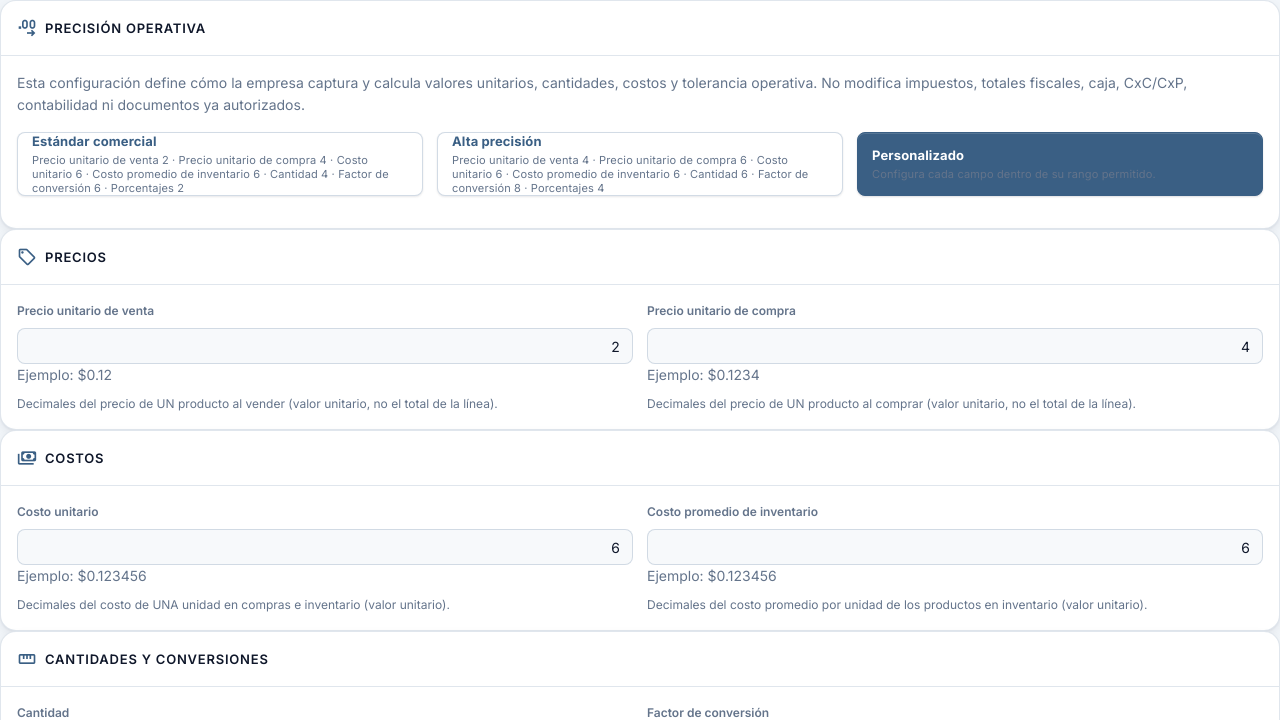
Test: ejemplos dinámicos según N decimales › reflejan el valor actual y se actualizan al editar
Expected: the element with test id "precision-section-prices" is shown, [0,229,1279,430]
Expected: the text with test id "precision-example-salesUnitPriceDecimals" shows "$0.12", [17,366,112,383]
Replace the text in the 1st field with "6". click: (325, 346)
box: [17,328,633,364]
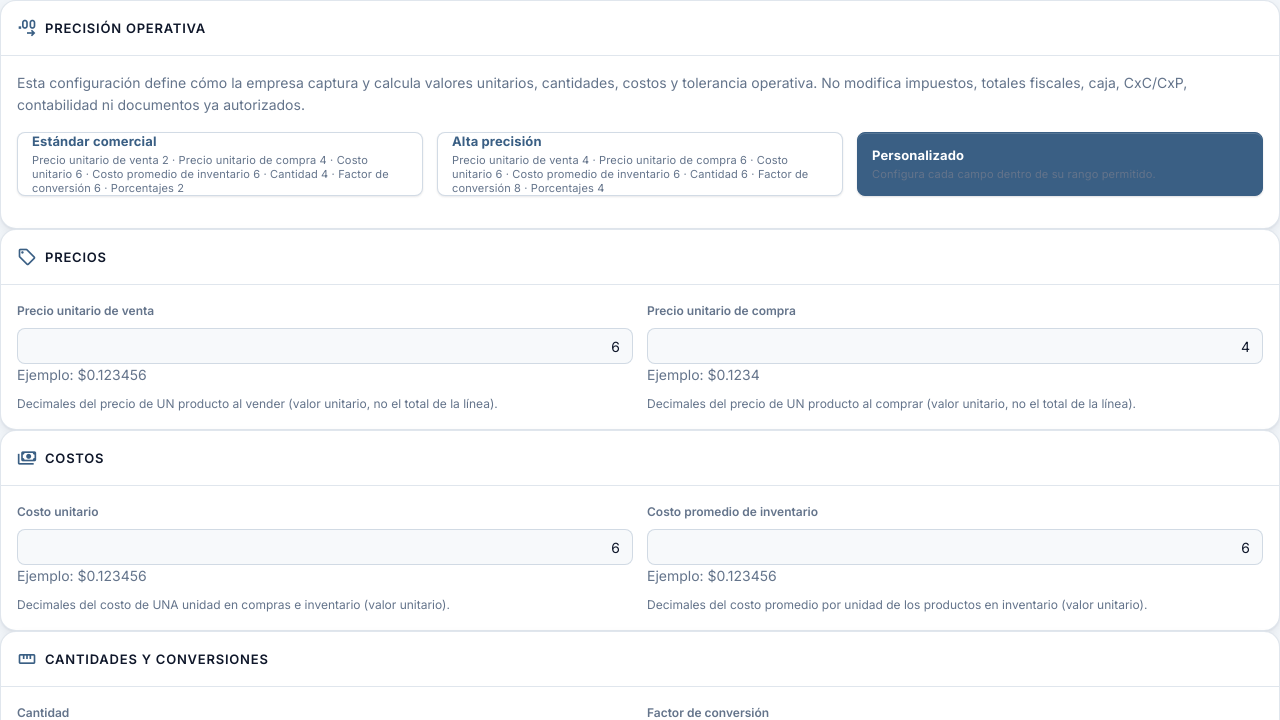
Result: the text with test id "precision-example-salesUnitPriceDecimals" shows "$0.123456" at [17,366,147,383]
